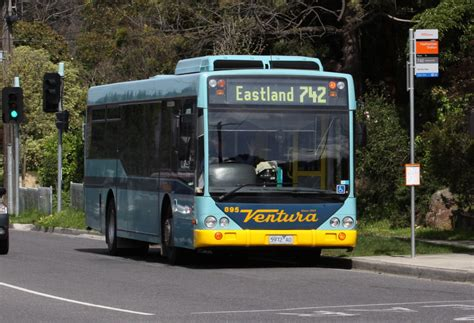bus: (84, 55, 356, 262)
